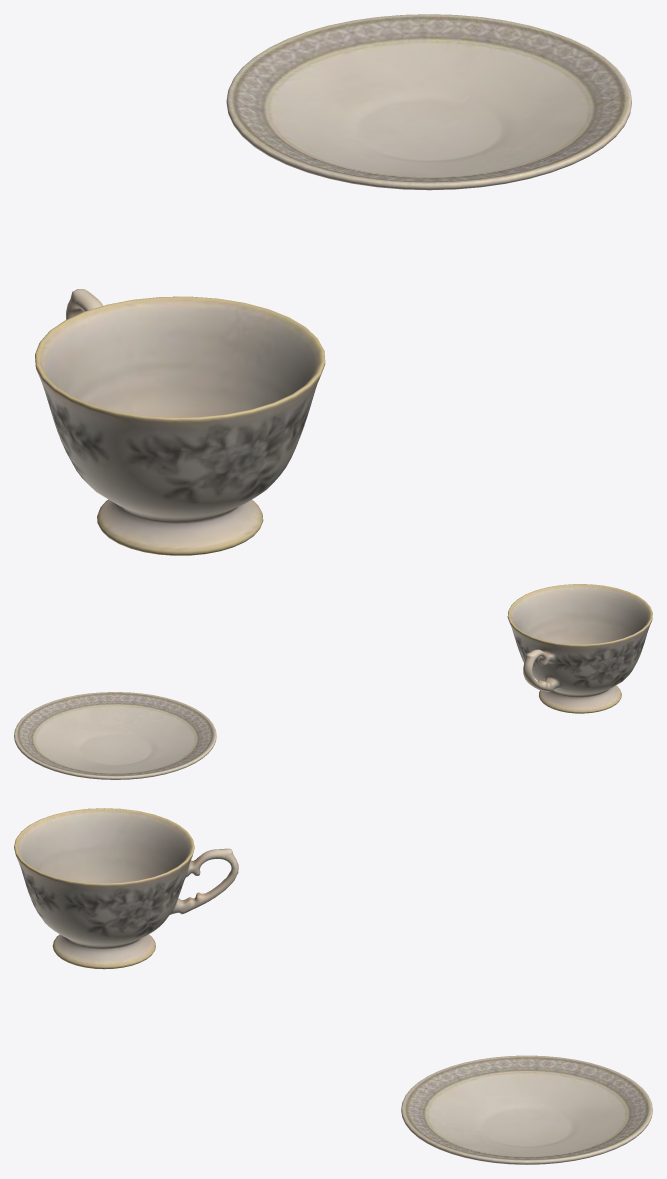
Rendered from tea-set.glb.
The picture shows the model from 3 angles, top to bottom: view 1: azimuth 30°, elevation 25°; view 2: azimuth 150°, elevation 25°; view 3: azimuth 270°, elevation 25°; orthographic projection. The views are drawn at different scales.
Visible parts, largest first — view 1: tea_set_01_cup_small_01, tea_set_01_saucer_circular_03; view 2: tea_set_01_cup_small_01, tea_set_01_saucer_circular_03; view 3: tea_set_01_cup_small_01, tea_set_01_saucer_circular_03.
Part boxes in pixels (x1,y1,x2,y2): tea_set_01_cup_small_01: (35,289,325,555); tea_set_01_saucer_circular_03: (226,14,631,190); tea_set_01_cup_small_01: (507,584,652,713); tea_set_01_saucer_circular_03: (14,692,216,779); tea_set_01_cup_small_01: (14,808,238,969); tea_set_01_saucer_circular_03: (401,1055,652,1164).
Size of the model in its own units: 0.3779 by 0.0704 by 0.3779.
Materials: 1 (1 with a texture image).
